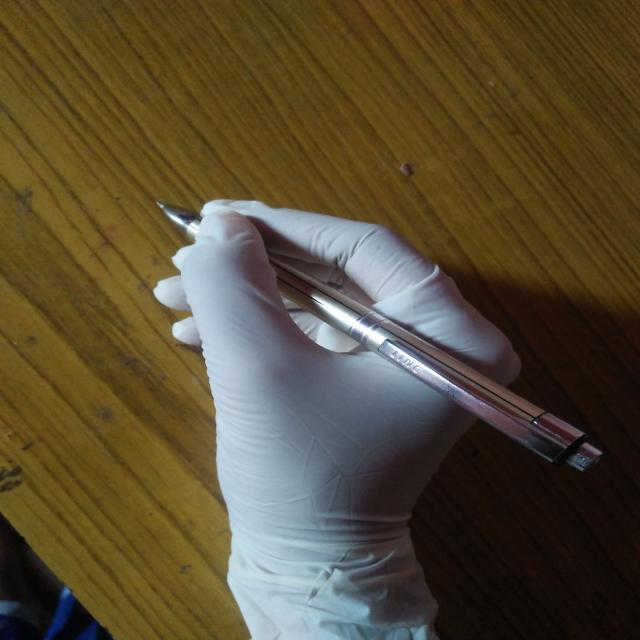glove_hand: (145, 182, 530, 639)
